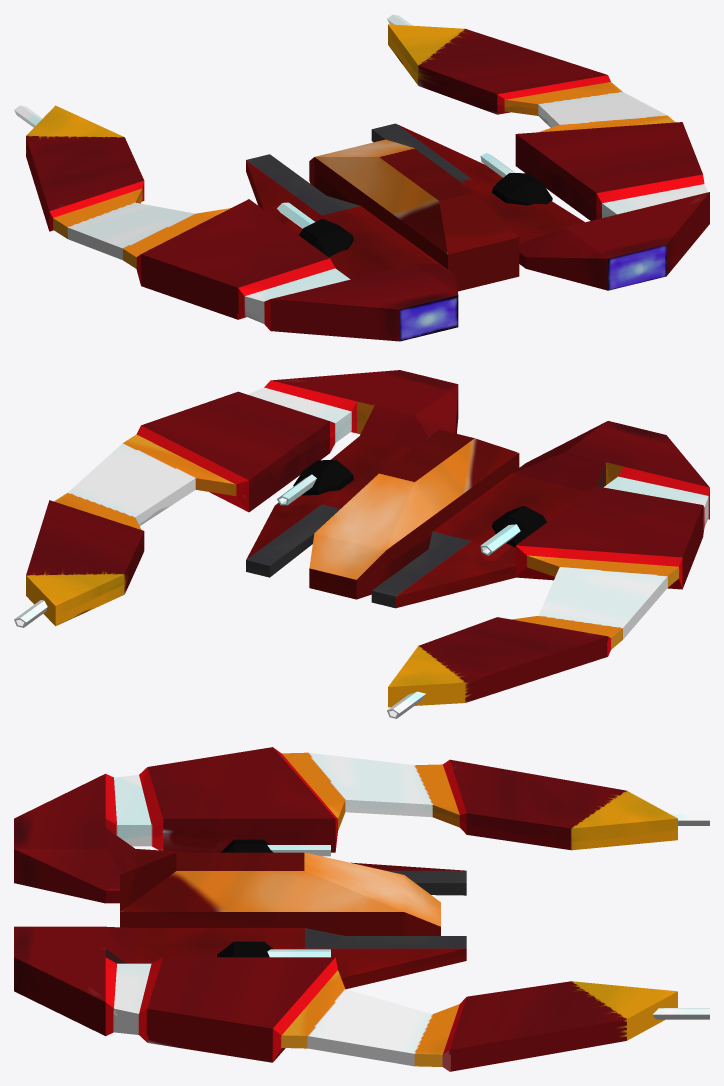
Rendered from ship7.fbx.
The picture shows the model from 3 angles, top to bottom: view 1: azimuth 30°, elevation 25°; view 2: azimuth 150°, elevation 25°; view 3: azimuth 270°, elevation 25°; orthographic projection. The views are drawn at different scales.
Parts seen in each view (by area): view 1: ship.001; view 2: ship.001; view 3: ship.001.
Part boxes in pixels (x1,y1,x2,y2): ship.001: [14, 14, 709, 341]; ship.001: [14, 370, 709, 718]; ship.001: [14, 747, 709, 1071].
Bounding box in the file's own units: 227 × 26.87 × 230.
